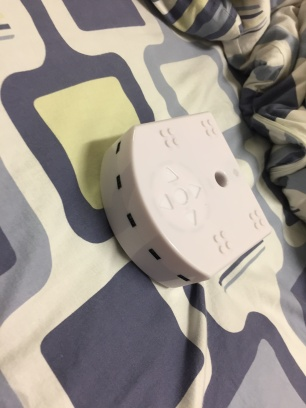thymio: (97, 107, 273, 293)
